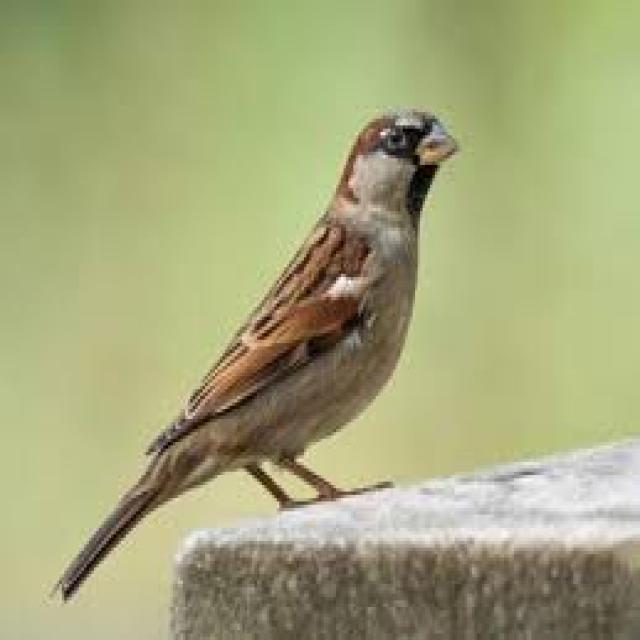bird: (50, 109, 460, 602)
